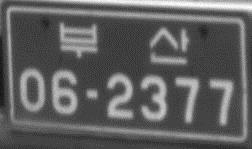-: (82, 87, 102, 99)
0: (18, 64, 46, 113)
2: (104, 71, 137, 121)
3: (138, 73, 169, 123)
6: (50, 68, 79, 114)
7: (205, 75, 236, 129), (172, 73, 202, 124)
부산_D: (56, 19, 190, 66)
